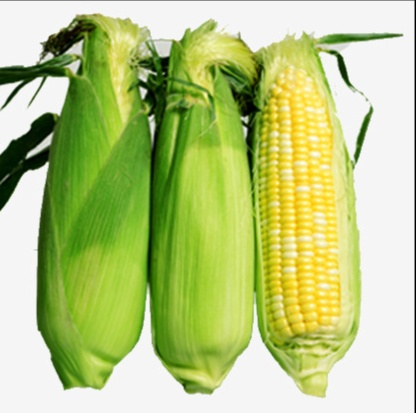corn: (252, 26, 360, 386)
corn_plant: (12, 4, 151, 391), (156, 25, 248, 384)
